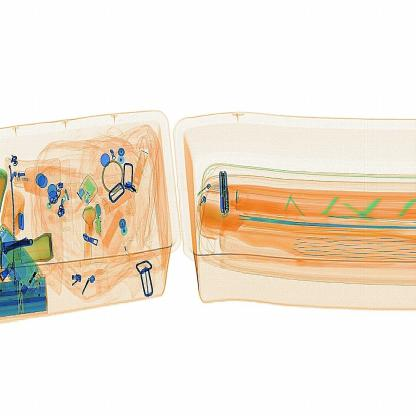scissors: (209, 163, 240, 222)
